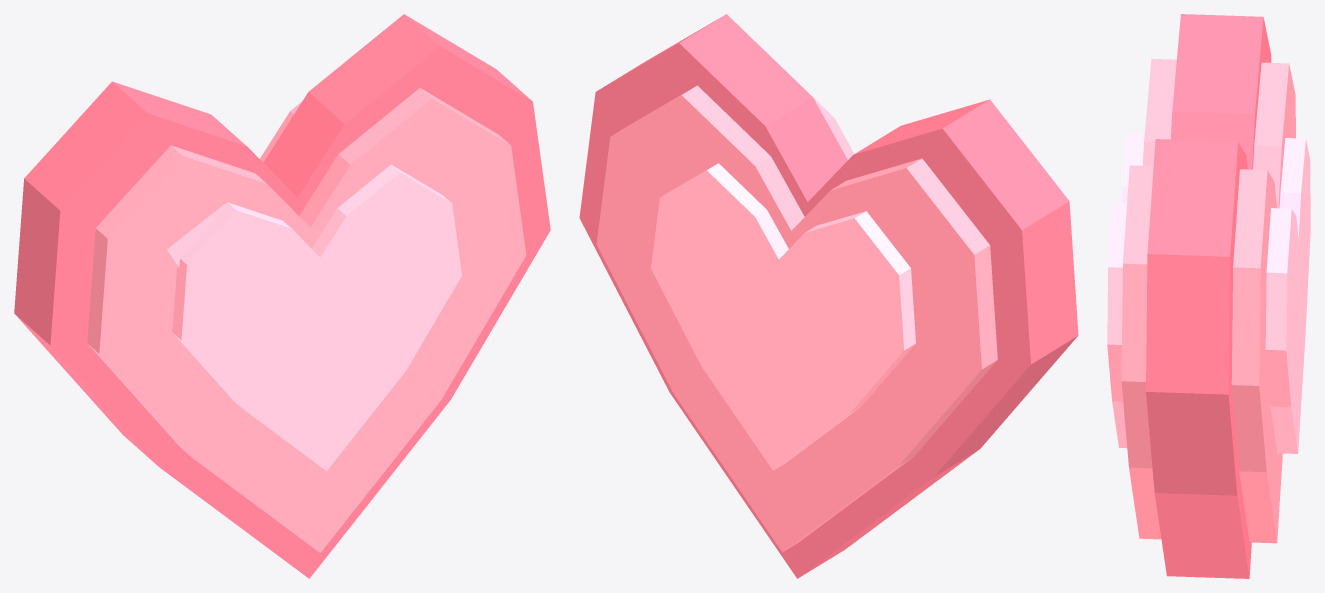
The model's file is health-heart.glb.
The picture shows the model from 3 angles, left to right: view 1: azimuth 30°, elevation 25°; view 2: azimuth 150°, elevation 25°; view 3: azimuth 270°, elevation 25°; orthographic projection.
Visible parts, largest first — view 1: Merged_health-heart-bevel, Merged_health-heart, Merged_health-heart-face, Merged_health-heart-face-surface; view 2: Merged_health-heart-bevel, Merged_health-heart, Merged_health-heart-face; view 3: Merged_health-heart, Merged_health-heart-bevel, Merged_health-heart-face.
Boxes of the visible parts, x1,y1,x2,y2 form: Merged_health-heart-bevel: (87, 88, 526, 552); Merged_health-heart: (14, 14, 550, 578); Merged_health-heart-face: (172, 164, 461, 471); Merged_health-heart-face-surface: (167, 203, 226, 267); Merged_health-heart-bevel: (596, 47, 997, 552); Merged_health-heart: (579, 14, 1078, 578); Merged_health-heart-face: (651, 147, 915, 470); Merged_health-heart: (1146, 14, 1271, 578); Merged_health-heart-bevel: (1121, 58, 1295, 543); Merged_health-heart-face: (1107, 132, 1310, 453).
Size of what is drawn, in the model's own units: 1.19 by 1.19 by 0.4417.
